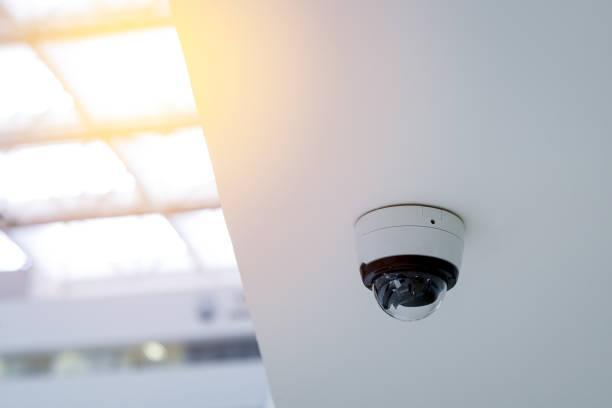camera: (340, 193, 477, 352)
